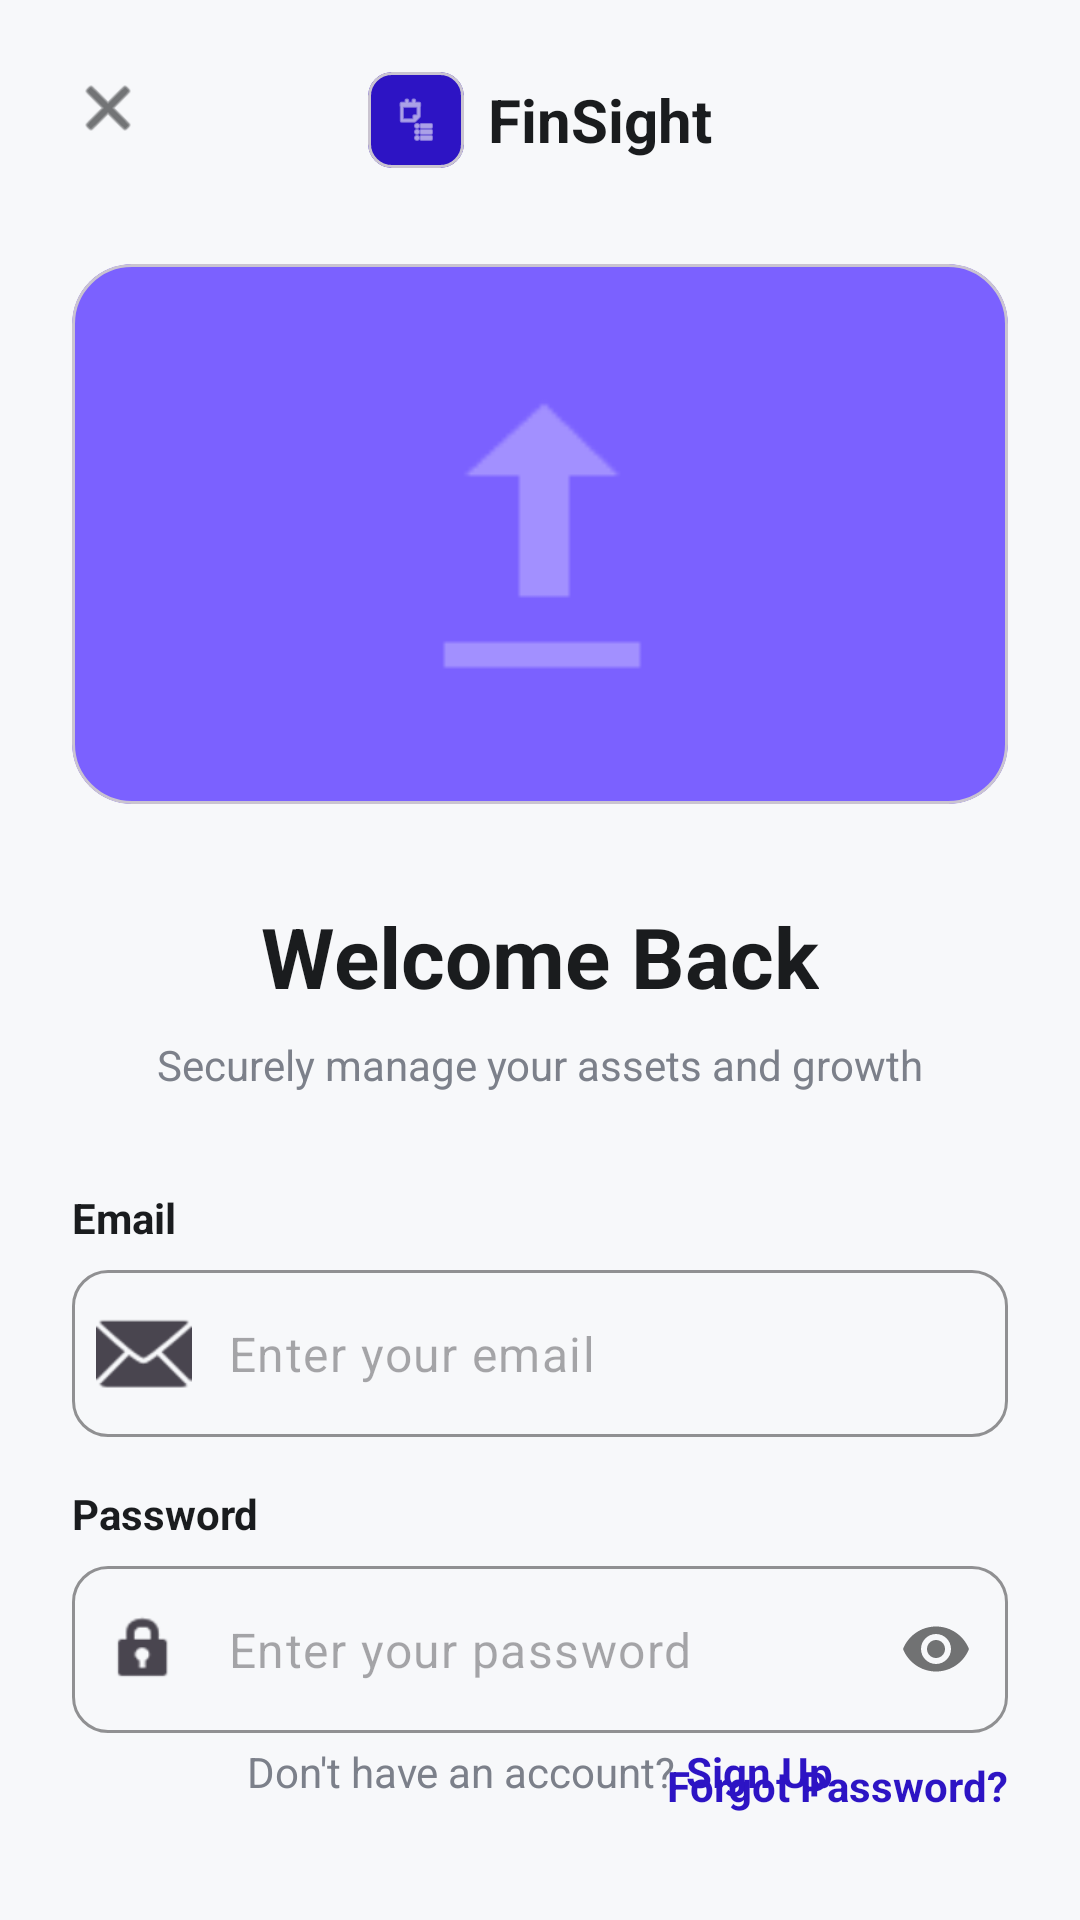

Screen size 1080px×1920px. Icon name, then its box in pixels as (x1, y1, x2, y2):
close clear cancel: (85, 85, 131, 131)
upload done: (444, 405, 640, 667)
